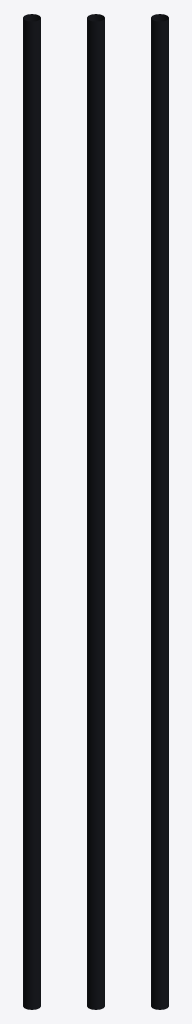
File: test_wallwires_7.fbx
3 views of the same model, side by side, from view 1: azimuth 90°, elevation 25°; view 2: azimuth 150°, elevation 25°; view 3: azimuth 270°, elevation 25° (orthographic).
Visible parts, largest first — view 1: wallwires7; view 2: wallwires7; view 3: wallwires7.
Part boxes in pixels (left/top/right/bottom): wallwires7: left=23, top=14, right=40, bottom=1009; wallwires7: left=87, top=14, right=104, bottom=1009; wallwires7: left=151, top=14, right=168, bottom=1009.
Size of the model in its own units: 4 by 240 by 4.
